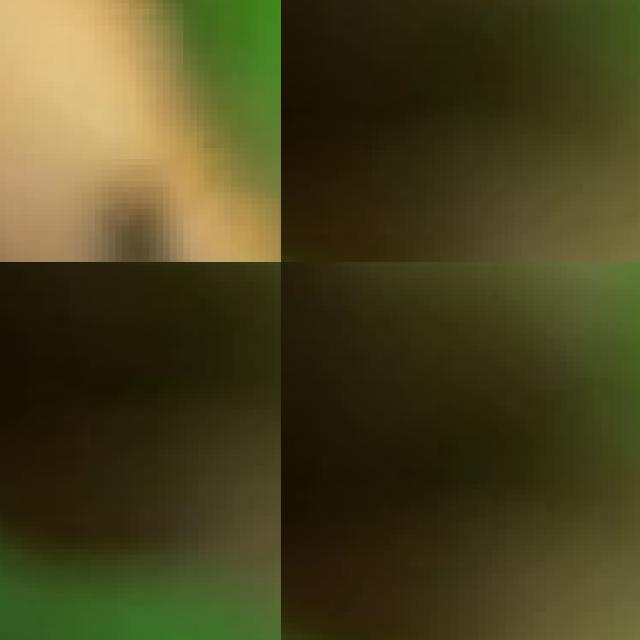fish: (0, 0, 281, 262)
